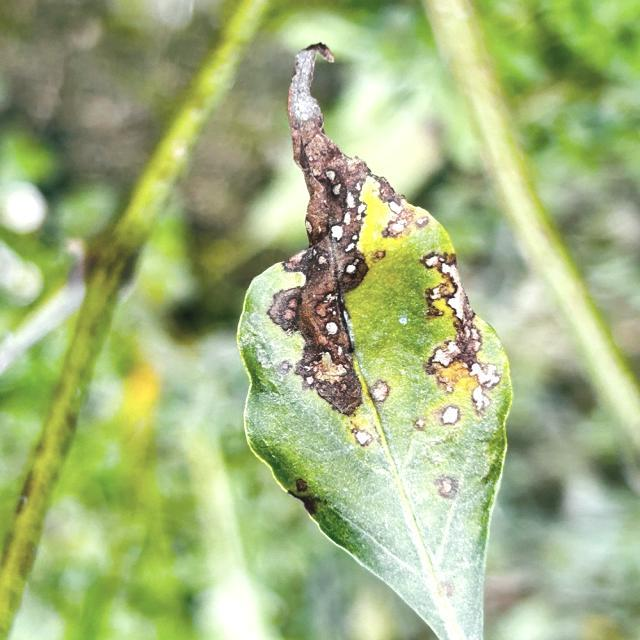Bercak Daun Serkospora: (236, 45, 514, 640)
